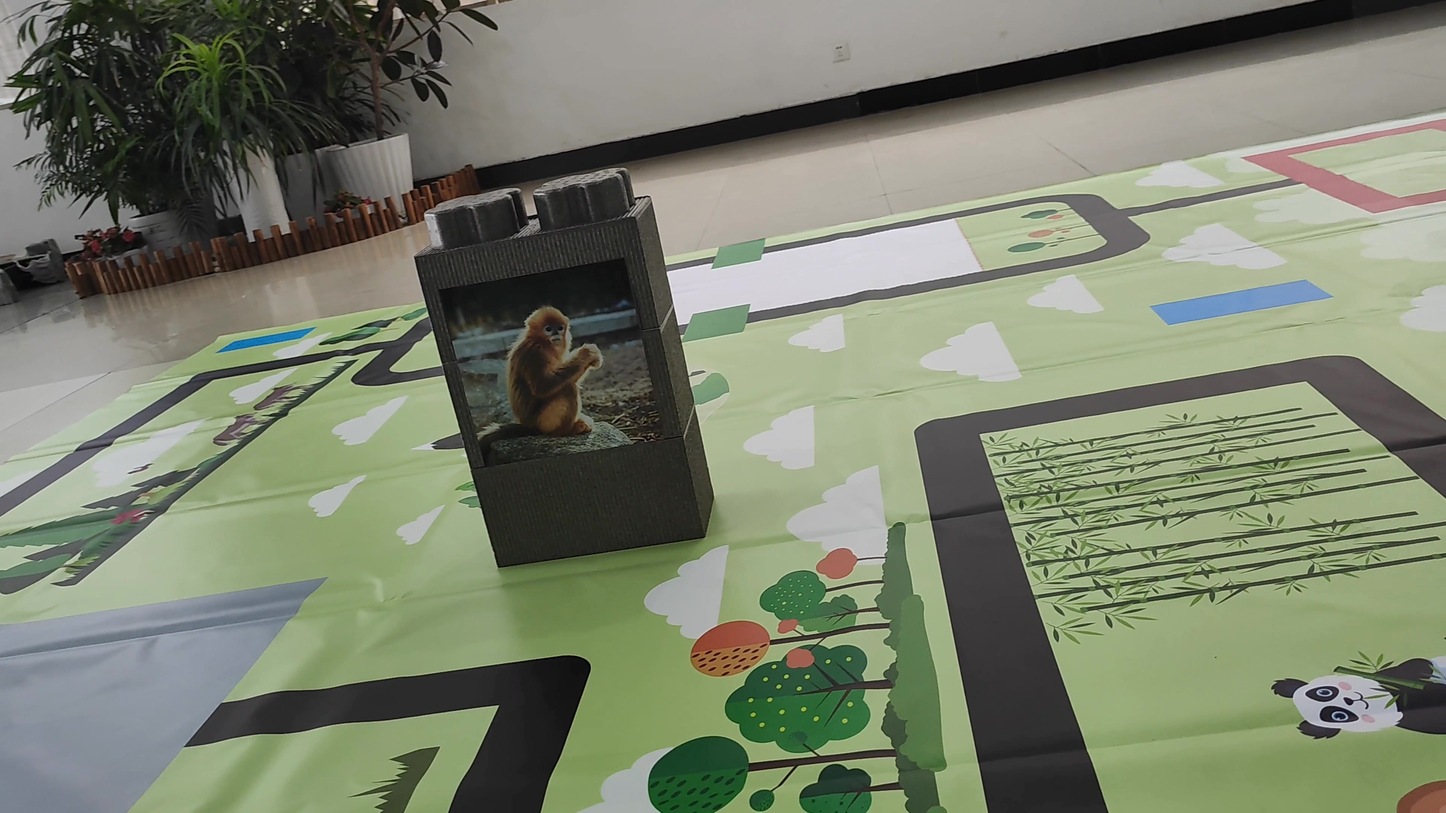monkey: (475, 284, 660, 441)
